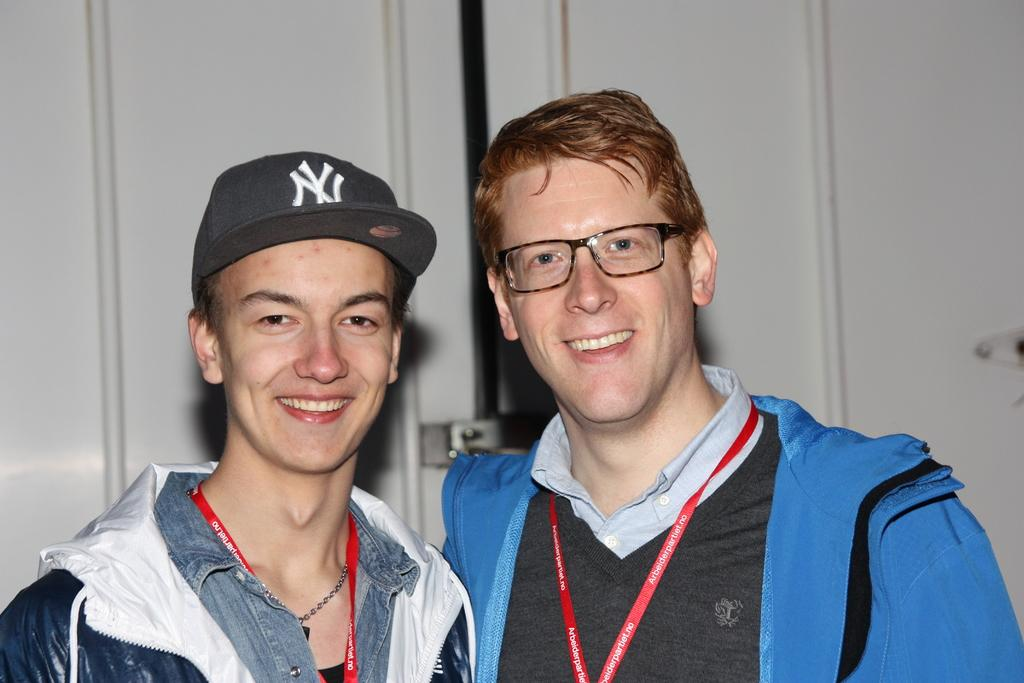Hat: (188, 152, 442, 310)
